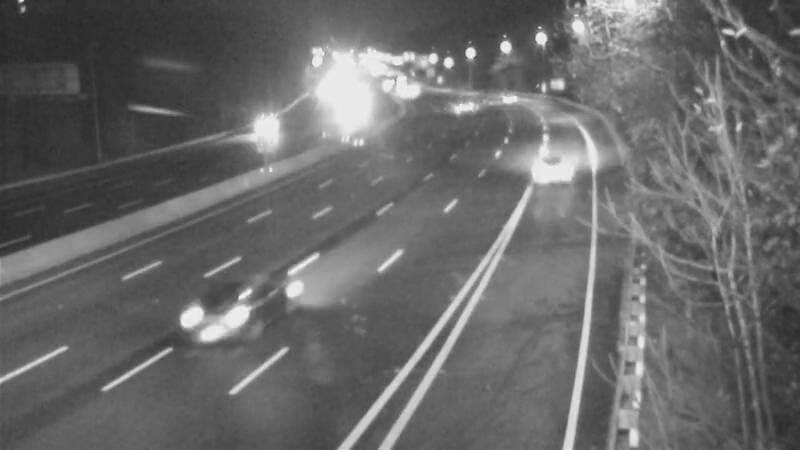vehicle: (162, 270, 272, 380), (511, 132, 591, 212), (478, 75, 528, 125), (436, 84, 486, 134), (237, 104, 287, 154)
